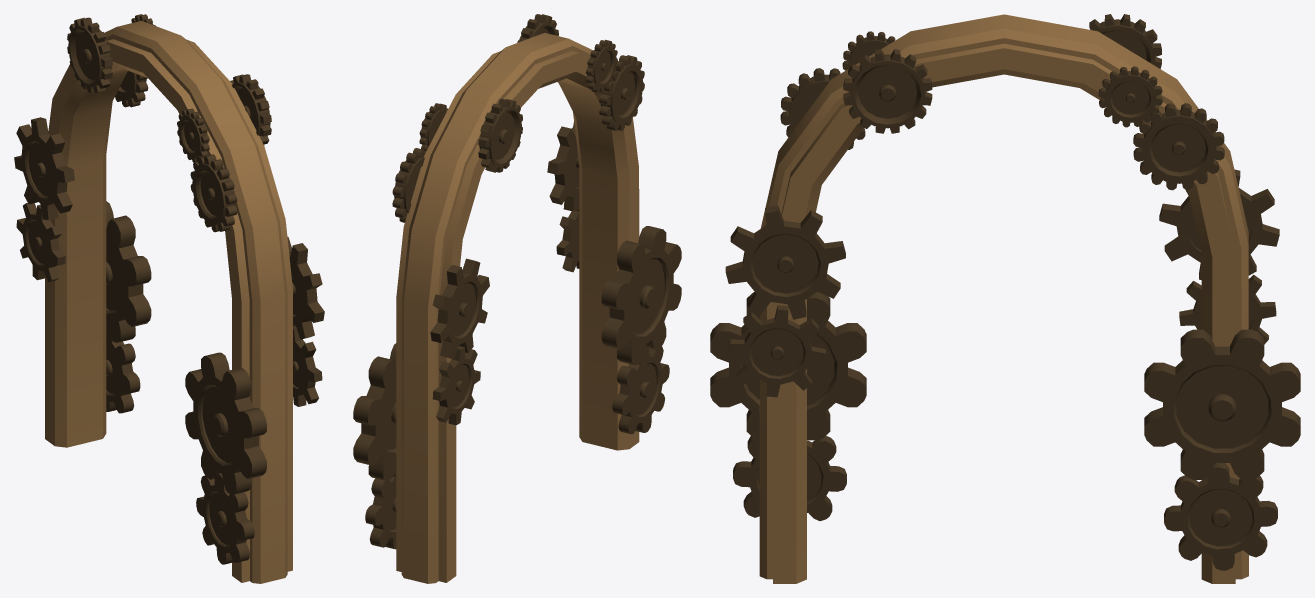
Rendered from PortalGateSteamPunk_04.fbx.
3 renders of one model, left to right at view 1: azimuth 30°, elevation 25°; view 2: azimuth 150°, elevation 25°; view 3: azimuth 270°, elevation 25°, orthographic. The views are drawn at different scales.
Visible parts, largest first — view 1: Circle.001, Cylinder, Cylinder.007, Cylinder.001, Cylinder.003, Cylinder.002, Cylinder.006, Cylinder.004, Cylinder.008, Cylinder.011, Cylinder.013, Cylinder.010 (+2 smaller); view 2: Circle.001, Cylinder, Cylinder.007, Cylinder.001, Cylinder.003, Cylinder.006, Cylinder.002, Cylinder.004, Cylinder.008, Cylinder.011, Cylinder.009, Cylinder.005 (+3 smaller); view 3: Circle.001, Cylinder.007, Cylinder, Cylinder.008, Cylinder.011, Cylinder.009, Cylinder.010, Cylinder.013, Cylinder.003, Cylinder.001, Cylinder.012, Cylinder.006 (+3 smaller).
Boxes of the visible parts, x1,y1,x2,y2 form: Circle.001: [45, 21, 292, 583]; Cylinder: [185, 352, 266, 494]; Cylinder.007: [106, 201, 151, 342]; Cylinder.001: [14, 117, 74, 220]; Cylinder.003: [196, 473, 254, 564]; Cylinder.002: [190, 154, 237, 232]; Cylinder.006: [67, 17, 112, 93]; Cylinder.004: [16, 202, 65, 282]; Cylinder.008: [287, 236, 324, 339]; Cylinder.011: [106, 324, 140, 413]; Cylinder.013: [293, 326, 322, 406]; Cylinder.010: [230, 74, 271, 145]; Circle.001: [396, 33, 639, 583]; Cylinder: [601, 226, 681, 364]; Cylinder.007: [353, 343, 396, 480]; Cylinder.001: [430, 258, 489, 359]; Cylinder.003: [612, 346, 669, 434]; Cylinder.006: [478, 98, 522, 172]; Cylinder.002: [599, 55, 644, 130]; Cylinder.004: [432, 346, 480, 425]; Cylinder.008: [547, 122, 579, 211]; Cylinder.011: [365, 467, 396, 549]; Cylinder.009: [392, 148, 426, 222]; Cylinder.005: [586, 39, 617, 92]; Circle.001: [759, 14, 1248, 583]; Cylinder.007: [1144, 329, 1300, 479]; Cylinder: [710, 292, 866, 440]; Cylinder.008: [725, 205, 845, 319]; Cylinder.011: [1164, 463, 1277, 570]; Cylinder.009: [1133, 103, 1224, 190]; Cylinder.010: [843, 49, 932, 133]; Cylinder.013: [729, 305, 825, 397]; Cylinder.003: [733, 435, 846, 520]; Cylinder.001: [1159, 169, 1279, 279]; Cylinder.012: [1098, 66, 1162, 127]; Cylinder.006: [1089, 14, 1161, 68].
Size of the model in its own units: 0.6054 by 3.06 by 2.99.
